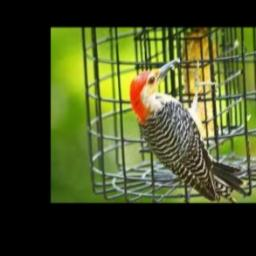Woodpecker: (129, 57, 244, 202)
